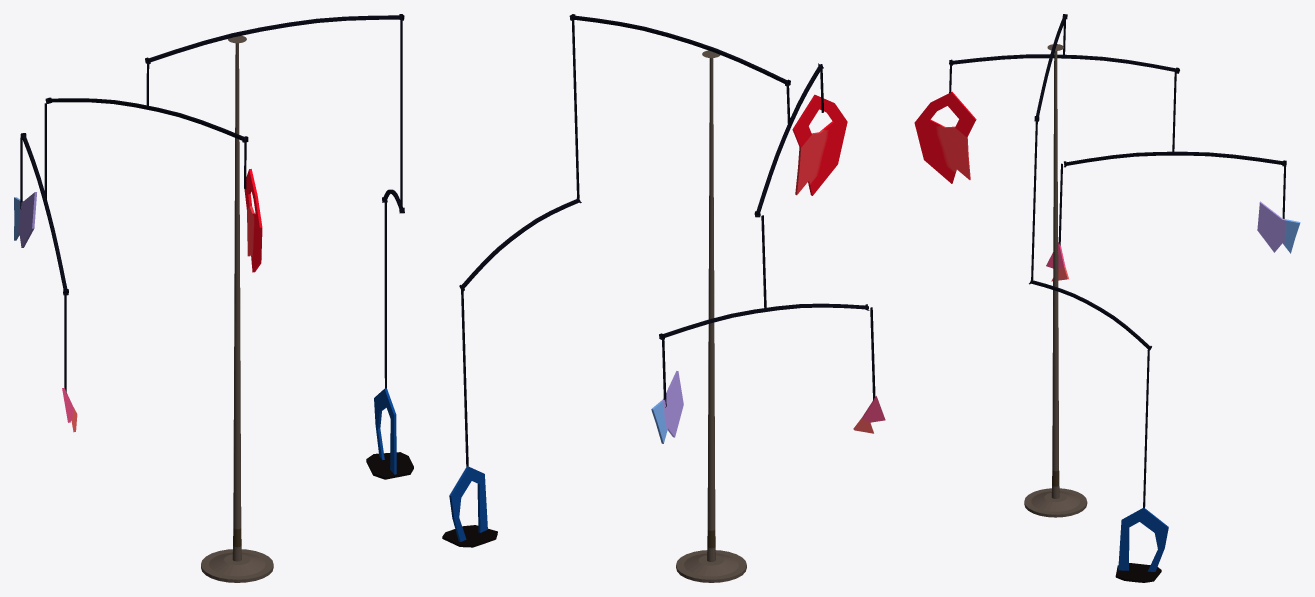
File: TheWhale_Action_Sculpture.glb
The picture shows the model from 3 angles, left to right: view 1: azimuth 30°, elevation 25°; view 2: azimuth 150°, elevation 25°; view 3: azimuth 270°, elevation 25°; orthographic projection. The views are drawn at different scales.
Visible parts, largest first — view 1: TheWhale_Action_Sculpture, TheWhale_Action_SculptureBase; view 2: TheWhale_Action_Sculpture, TheWhale_Action_SculptureBase; view 3: TheWhale_Action_Sculpture, TheWhale_Action_SculptureBase.
Part boxes in pixels (<box>): TheWhale_Action_Sculpture: <box>14,14,413,479</box>; TheWhale_Action_SculptureBase: <box>201,35,273,582</box>; TheWhale_Action_Sculpture: <box>442,14,885,547</box>; TheWhale_Action_SculptureBase: <box>676,50,746,582</box>; TheWhale_Action_Sculpture: <box>914,14,1300,582</box>; TheWhale_Action_SculptureBase: <box>1024,44,1087,517</box>.
Size of what is drawn, in the model's own units: 14.77 by 19.04 by 14.39.
Materials: 1 (1 with a texture image).
